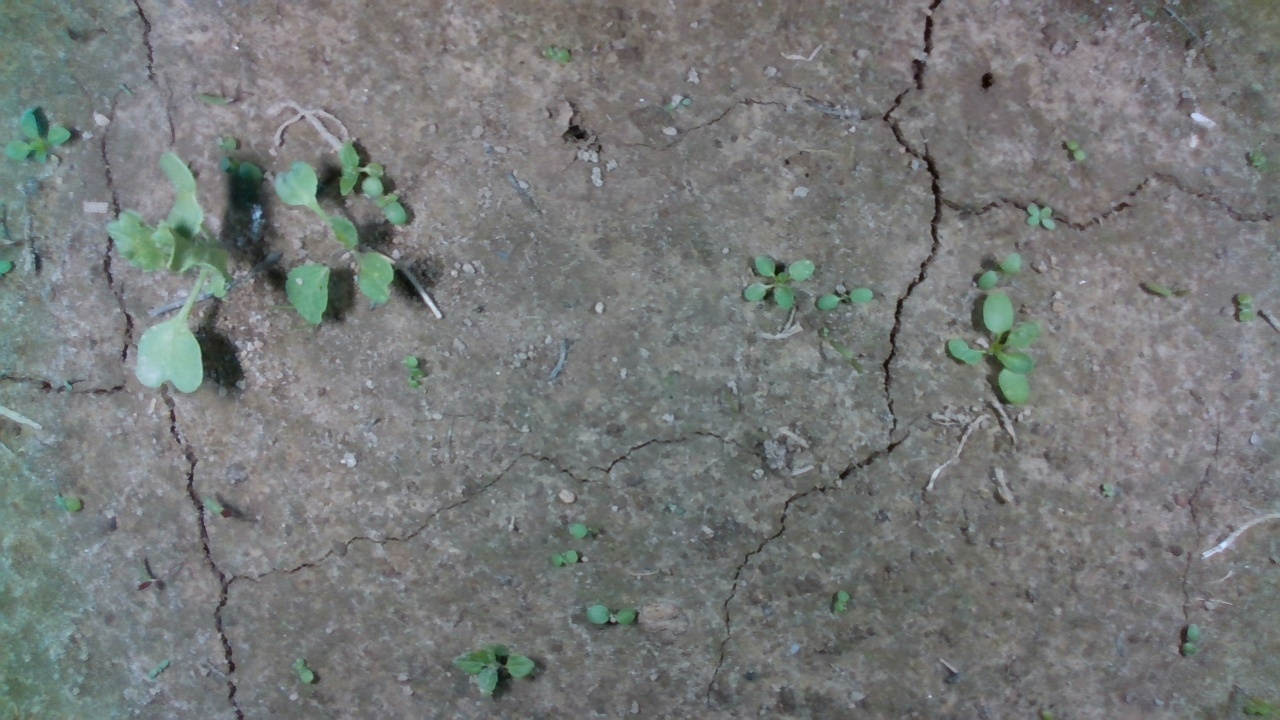weed: (818, 276, 886, 325), (586, 599, 645, 632), (1027, 198, 1061, 239), (45, 488, 90, 518), (399, 353, 427, 397), (1138, 272, 1178, 302), (288, 655, 322, 686), (548, 548, 588, 573), (829, 587, 859, 619), (534, 39, 571, 64), (1065, 138, 1093, 164)
